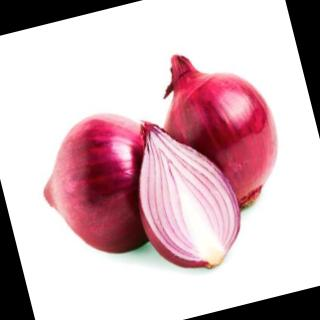Bawang Merah: (117, 104, 255, 285)
